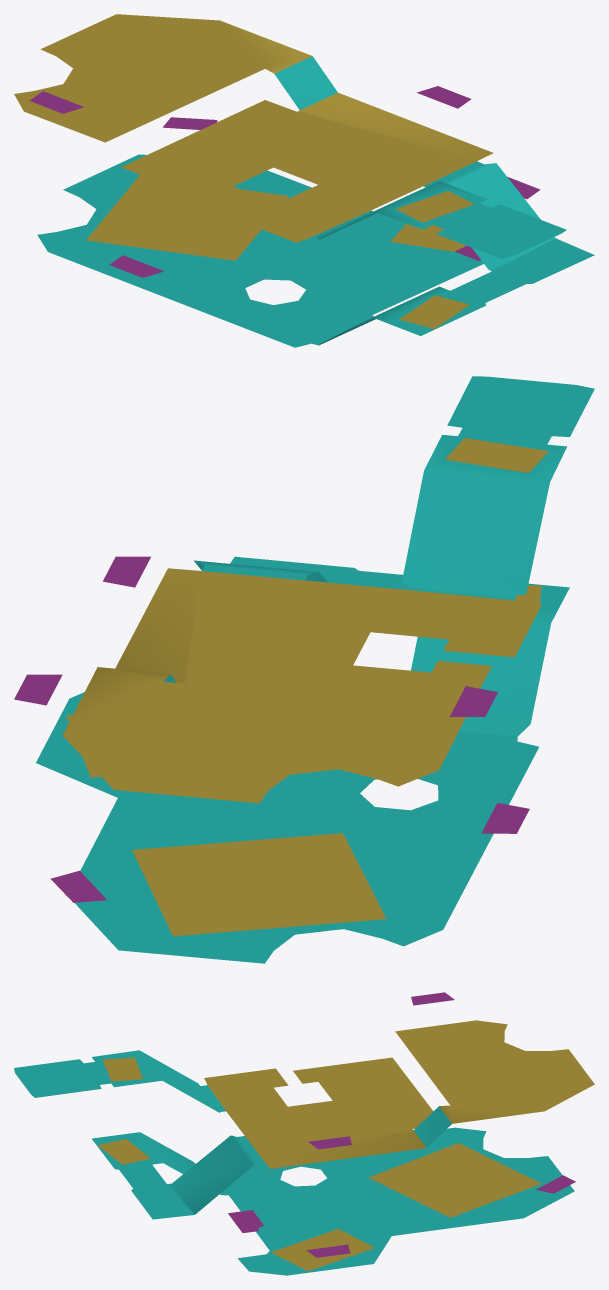
Rendered from col_appart_id's.max.fobj.obj.
3 views of the same model, one above another, from view 1: azimuth 30°, elevation 25°; view 2: azimuth 150°, elevation 25°; view 3: azimuth 270°, elevation 25° (orthographic). The views are drawn at different scales.
Parts seen in each view (by area): view 1: col2, col, col_niche02, col_niche03, col_niche04, col_niche01; view 2: col2, col, col_niche04, col_niche, col_niche02, col_niche01, col_niche03; view 3: col2, col, initialShadingGroup col_bar.
Boxes of the visible parts, bbox=[...] form: col2: bbox=[14, 14, 566, 271]; col: bbox=[37, 154, 594, 347]; col_niche02: bbox=[109, 255, 163, 277]; col_niche03: bbox=[29, 91, 84, 113]; col_niche04: bbox=[417, 86, 471, 108]; col_niche01: bbox=[162, 117, 217, 129]; col2: bbox=[62, 376, 594, 803]; col: bbox=[36, 556, 569, 963]; col_niche04: bbox=[103, 556, 150, 587]; col_niche: bbox=[14, 674, 62, 705]; col_niche02: bbox=[481, 803, 529, 833]; col_niche01: bbox=[50, 870, 106, 902]; col_niche03: bbox=[449, 686, 497, 716]; col2: bbox=[14, 1020, 594, 1214]; col: bbox=[92, 1127, 574, 1275]; initialShadingGroup col_bar: bbox=[228, 1210, 263, 1232].
Bounding box in the file's own units: 1686 × 609 × 2550.
